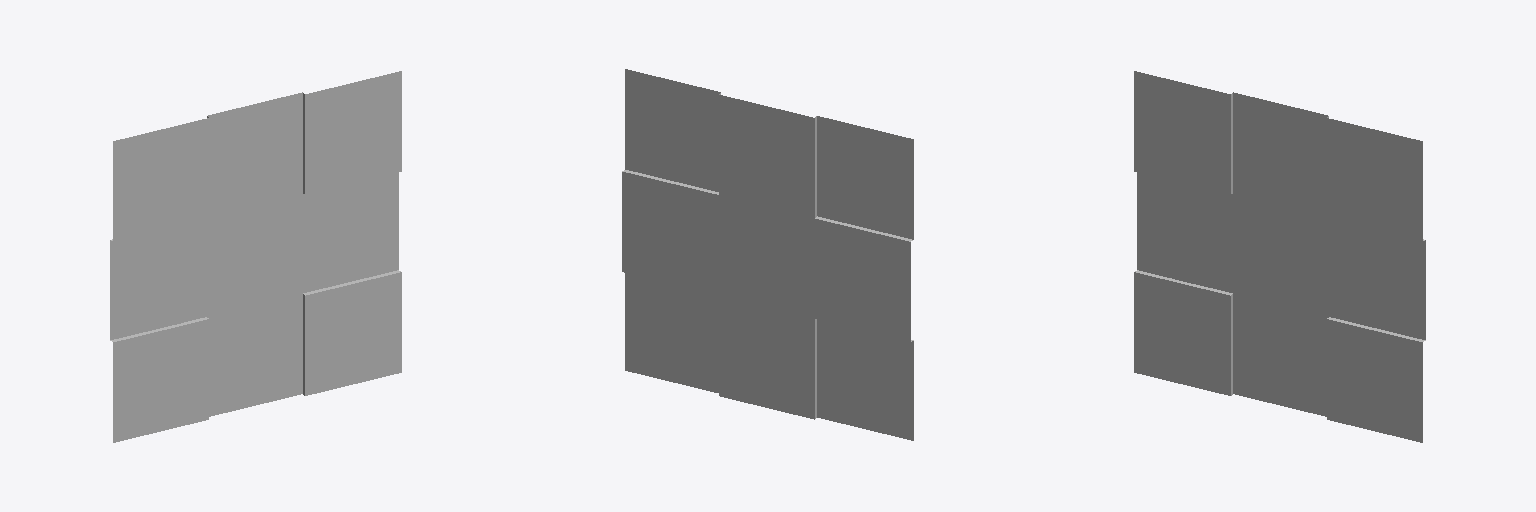
Rendered from roadCross.obj.
3 renders of one model, left to right at view 1: azimuth 30°, elevation 25°; view 2: azimuth 150°, elevation 25°; view 3: azimuth 330°, elevation 25°, orthographic.
Visible parts, largest first — view 1: Plane.036_Plane.001; view 2: Plane.036_Plane.001; view 3: Plane.036_Plane.001.
Boxes of the visible parts, <box> form: Plane.036_Plane.001: <box>110,71,401,442</box>; Plane.036_Plane.001: <box>622,69,913,440</box>; Plane.036_Plane.001: <box>1134,71,1425,442</box>.
Bounding box in the file's own units: 6 × 6 × 0.1.